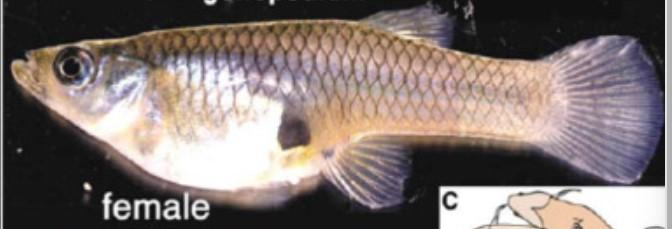Mosquito Fish: (11, 7, 668, 209)
